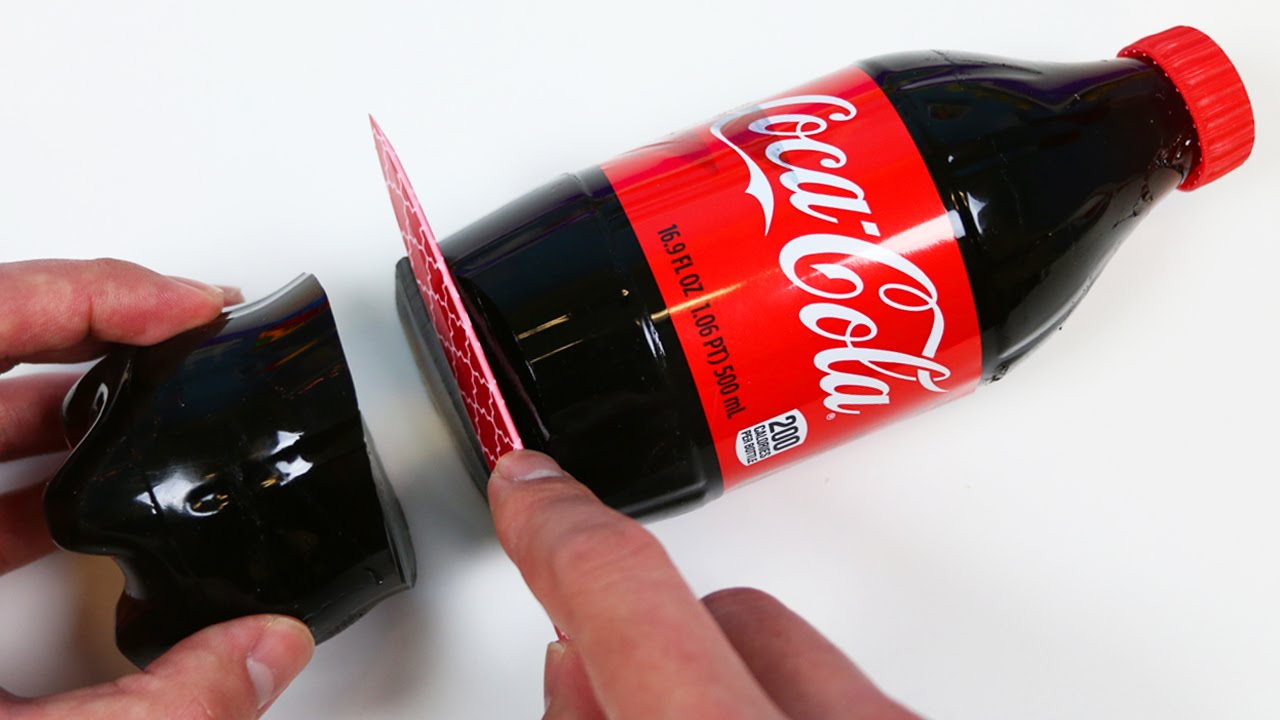coke: (486, 43, 1241, 454)
